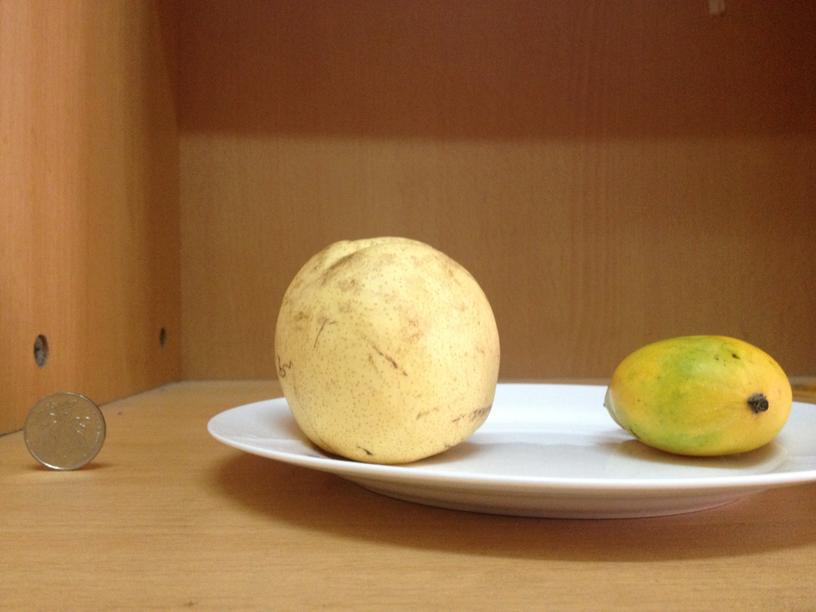coin: (23, 389, 106, 470)
mango: (603, 335, 793, 453)
pear: (275, 234, 499, 462)
